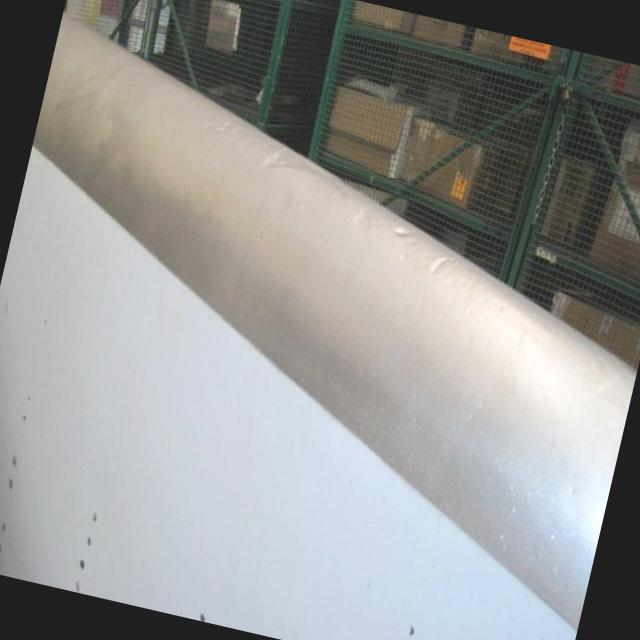dent: (321, 184, 392, 243), (250, 138, 328, 190), (174, 101, 250, 153), (423, 243, 468, 287), (386, 214, 422, 252)
